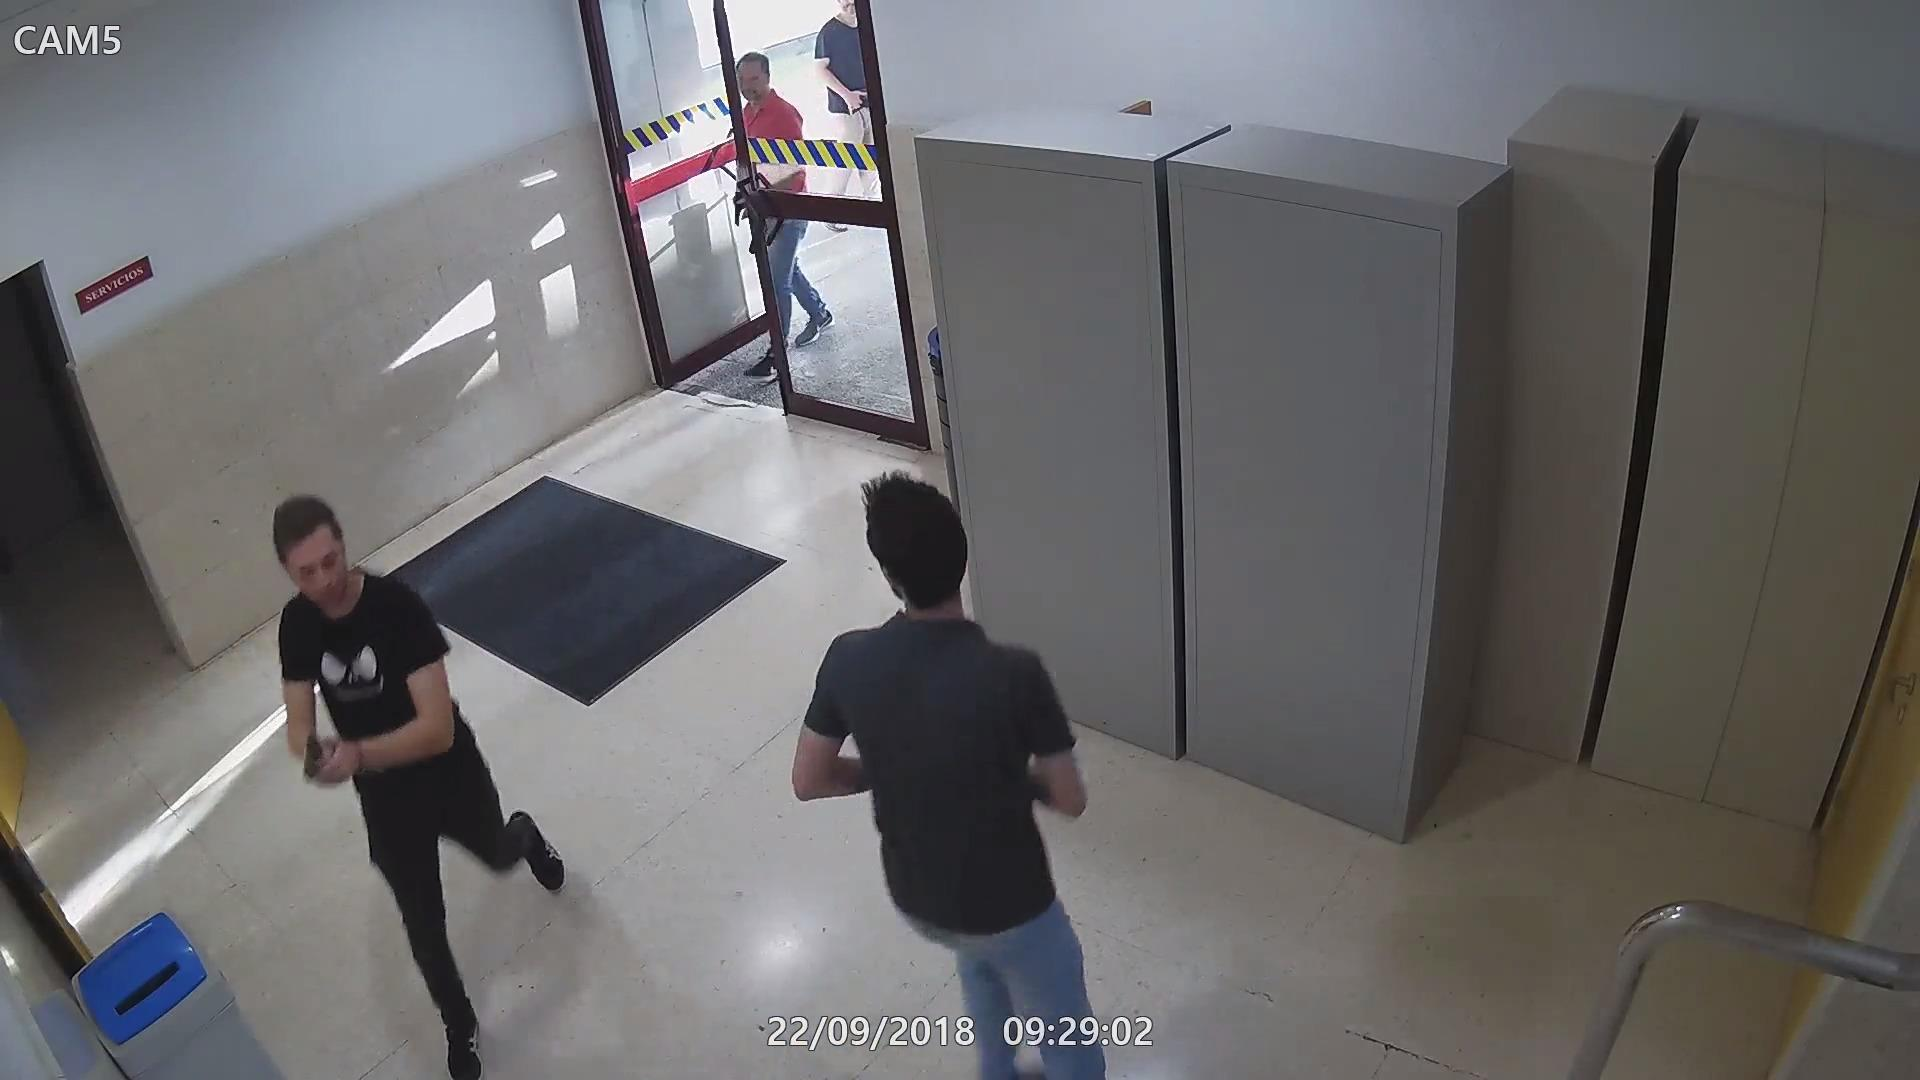Handgun: (299, 733, 344, 789), (728, 183, 754, 228)
